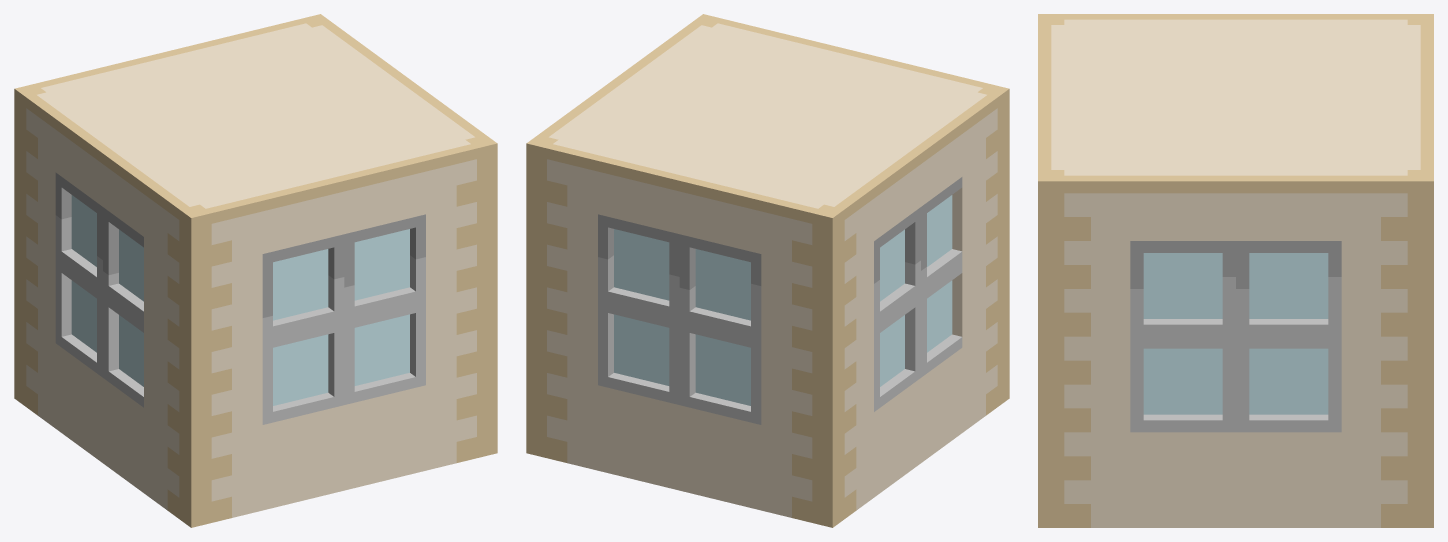
File: hose_base_w_B.obj
3 views of the same model, side by side, from view 1: azimuth 30°, elevation 25°; view 2: azimuth 150°, elevation 25°; view 3: azimuth 270°, elevation 25° (orthographic). The views are drawn at different scales.
Size of the model in its own units: 3 by 2.9 by 3.
Materials: 1 (1 with a texture image).
